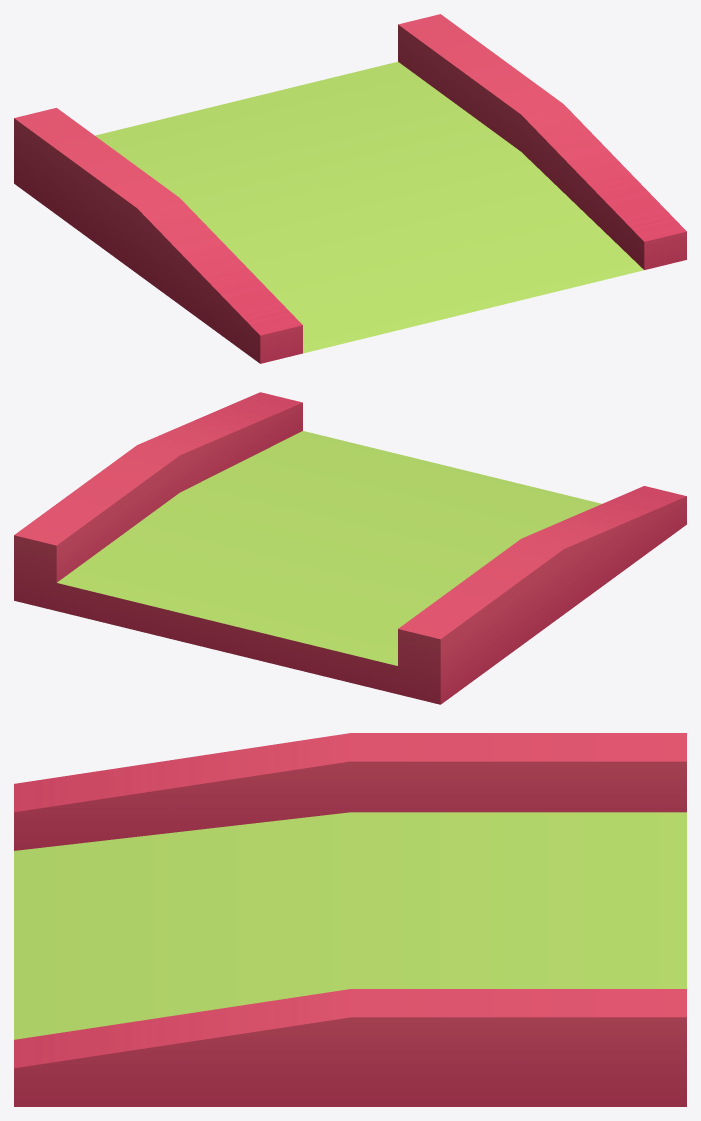
The model's file is start.gltf.
3 renders of one model, top to bottom at view 1: azimuth 30°, elevation 25°; view 2: azimuth 150°, elevation 25°; view 3: azimuth 270°, elevation 25°, orthographic. The views are drawn at different scales.
Parts seen in each view (by area): view 1: start; view 2: start; view 3: start.
Part boxes in pixels (x1,y1,x2,y2): start: [14, 14, 686, 363]; start: [14, 392, 686, 704]; start: [14, 733, 686, 1106].
Size of the model in its own units: 0.9999 by 0.1467 by 0.9999.
Materials: 1 (1 with a texture image).
